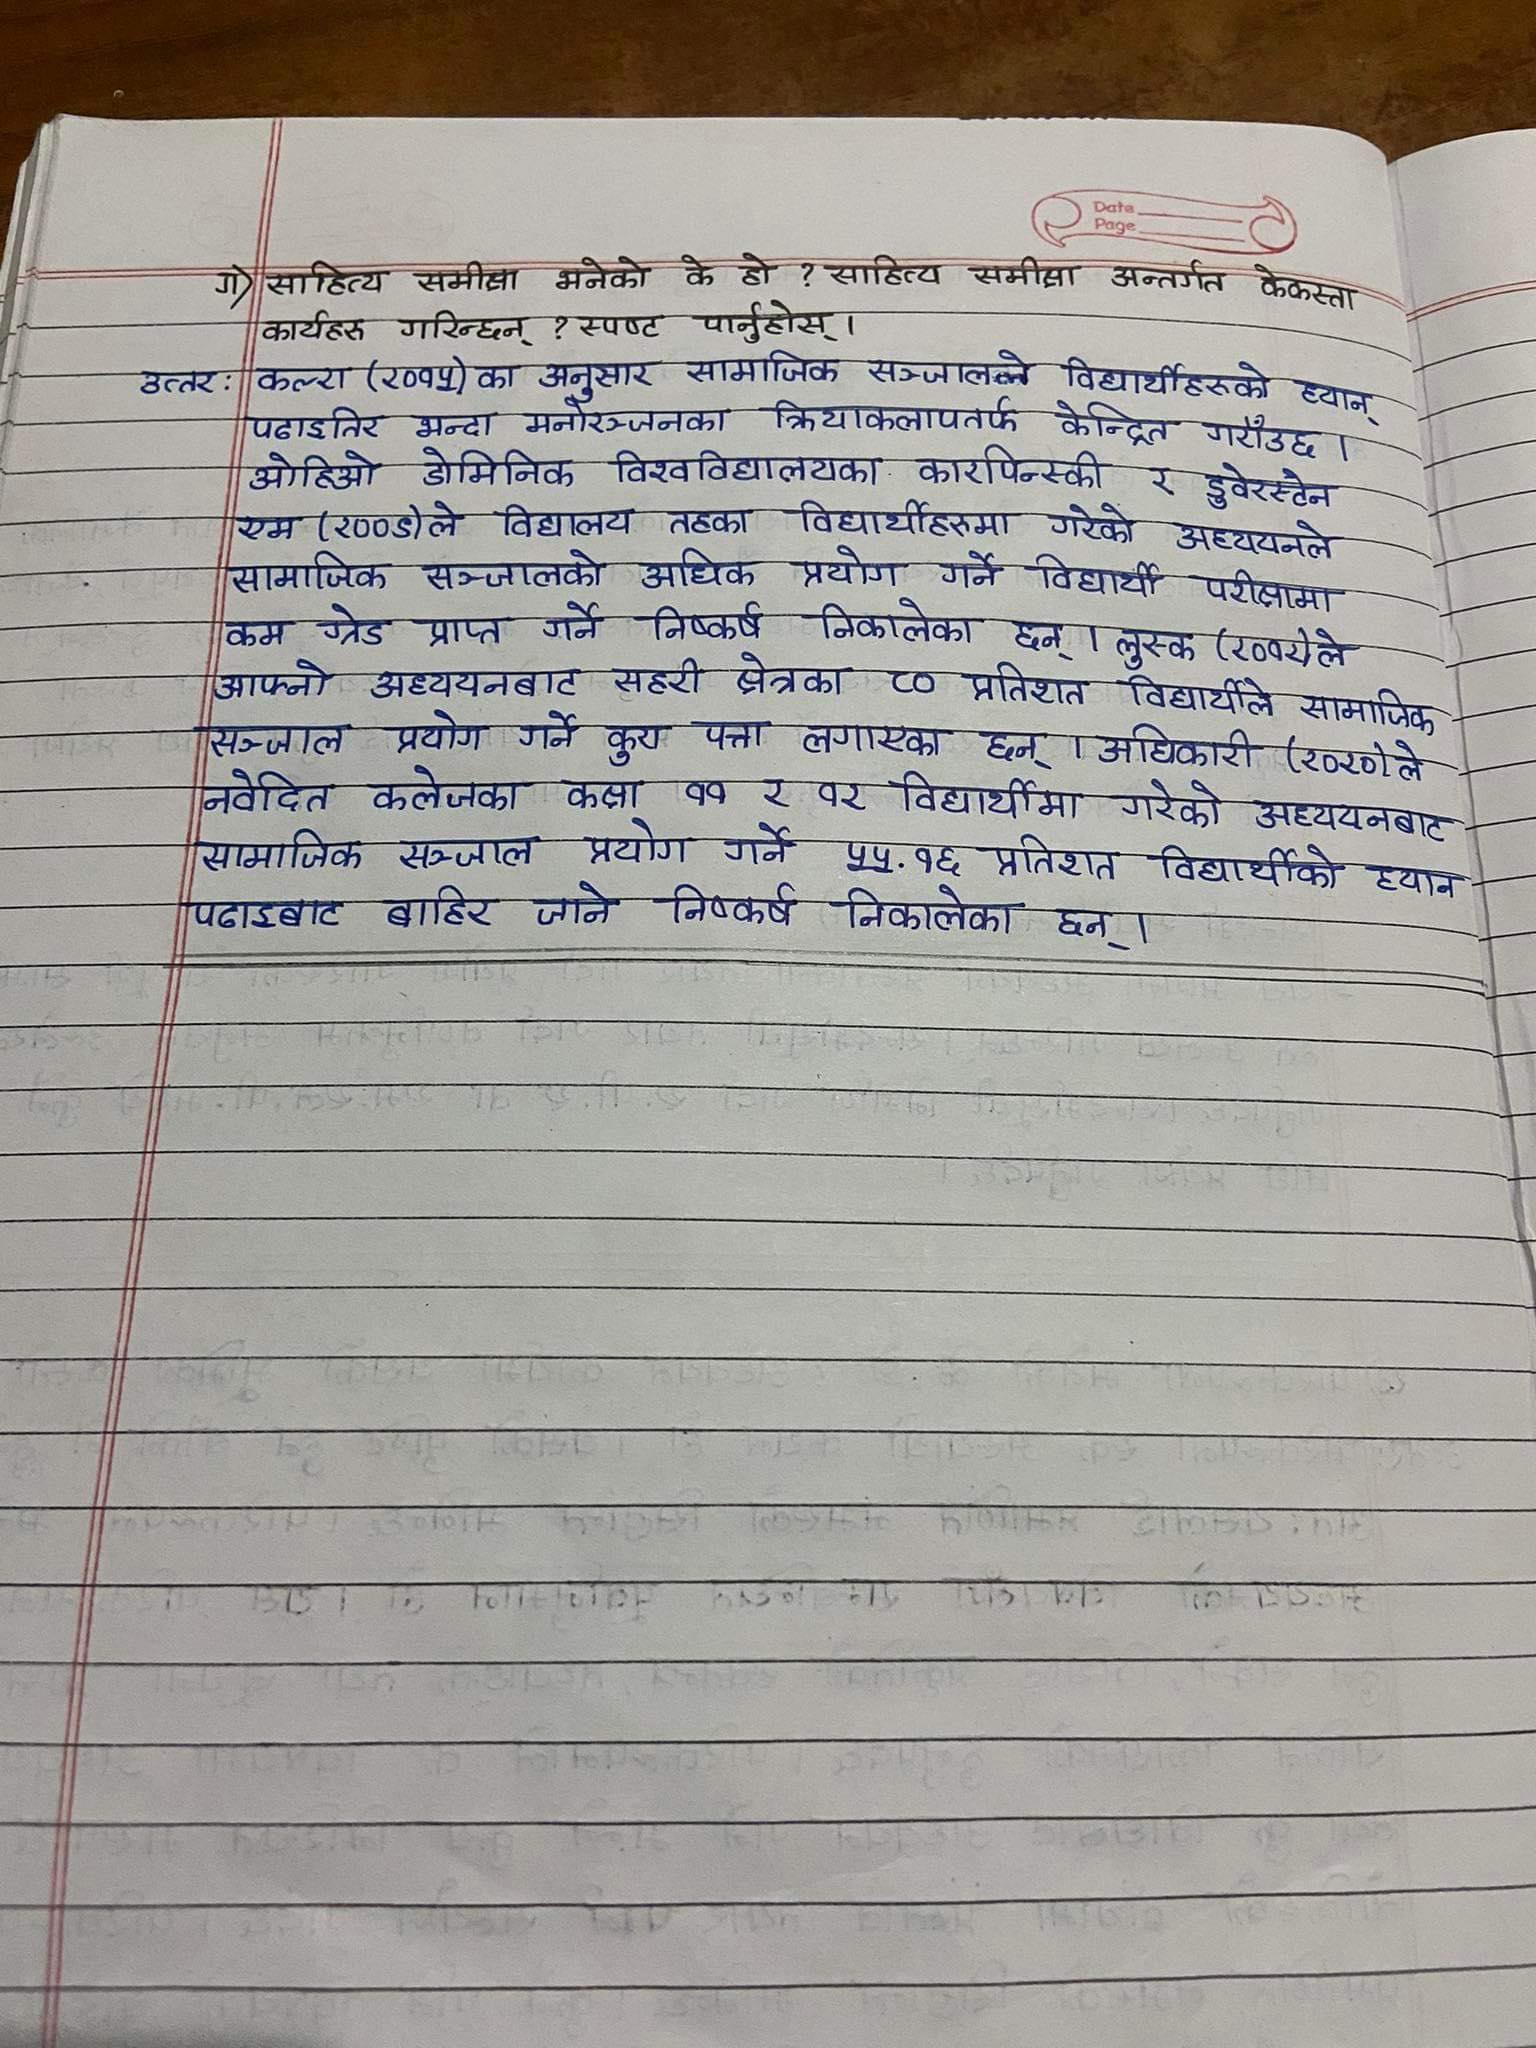text: (603, 448, 895, 489), (887, 769, 1084, 826), (833, 885, 1016, 945), (757, 395, 1028, 434), (1055, 355, 1276, 400), (1149, 842, 1346, 892), (787, 502, 1016, 543), (1246, 795, 1465, 839), (912, 447, 1108, 492), (416, 550, 608, 593), (1089, 726, 1263, 772), (520, 400, 729, 439), (1168, 519, 1354, 563), (190, 827, 373, 871), (361, 768, 528, 814), (813, 601, 983, 647), (363, 668, 586, 701), (658, 880, 808, 930), (1120, 672, 1281, 718), (413, 448, 579, 492), (963, 660, 1099, 713), (197, 768, 340, 818), (1029, 548, 1162, 601), (1296, 685, 1439, 734), (984, 834, 1123, 884), (186, 892, 349, 934), (1199, 464, 1339, 513), (1192, 569, 1342, 614), (1247, 261, 1363, 319), (378, 885, 503, 939), (689, 303, 842, 347), (866, 348, 1029, 389), (729, 656, 860, 706), (800, 718, 950, 761), (248, 450, 389, 495), (1199, 414, 1329, 463), (578, 816, 697, 868), (392, 832, 544, 872), (1105, 777, 1220, 830), (833, 834, 962, 880), (678, 350, 847, 385), (224, 556, 394, 592), (399, 305, 536, 348), (492, 500, 637, 540), (261, 256, 390, 302), (205, 718, 349, 758), (1050, 402, 1183, 445), (374, 710, 495, 756), (208, 660, 336, 703), (641, 603, 774, 643), (791, 545, 908, 590), (1105, 255, 1225, 298), (636, 548, 762, 589), (526, 880, 624, 930), (245, 406, 390, 439), (537, 356, 653, 397), (605, 655, 707, 700), (545, 252, 657, 292), (821, 255, 947, 290), (1367, 858, 1468, 901), (403, 258, 526, 293), (963, 256, 1079, 293), (1289, 369, 1386, 413), (411, 610, 515, 650), (1042, 503, 1144, 543), (248, 360, 357, 397), (1112, 624, 1199, 669), (716, 822, 797, 871), (255, 311, 365, 347), (662, 502, 753, 543), (933, 545, 1007, 593), (313, 605, 392, 650), (563, 774, 644, 818), (1052, 901, 1129, 947), (600, 718, 670, 768), (136, 364, 226, 402), (573, 306, 671, 340), (1299, 740, 1378, 780), (534, 598, 603, 643), (515, 708, 579, 756), (703, 713, 776, 755), (1229, 627, 1300, 669), (979, 726, 1049, 768), (1008, 613, 1073, 656), (215, 614, 292, 648), (415, 410, 502, 439), (336, 510, 415, 540), (237, 510, 302, 547), (878, 663, 941, 700), (815, 776, 871, 816), (384, 361, 458, 392), (1388, 735, 1430, 785), (1312, 626, 1354, 674), (736, 250, 778, 297), (473, 360, 528, 395), (679, 248, 721, 293), (208, 256, 245, 306), (421, 500, 468, 539), (757, 776, 799, 818), (678, 774, 729, 808), (1142, 463, 1183, 500)
